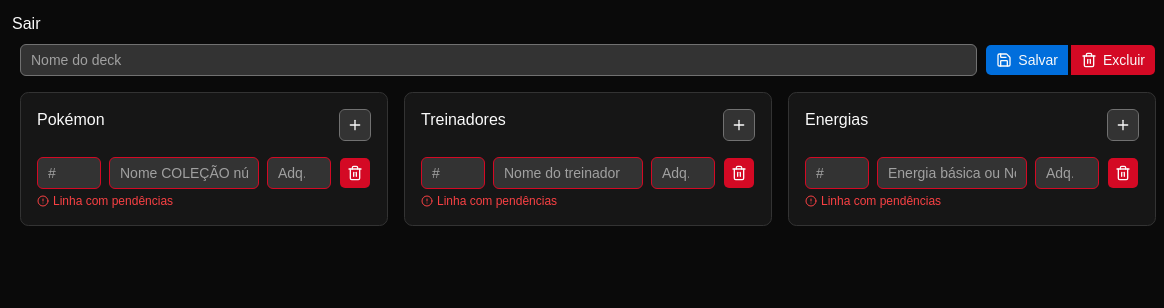
Test case: DeckEditor › pre-fills owned when the typed text resolves to a known key
Click the button named "Adicionar carta" at (355, 125), box [339,109,371,141]
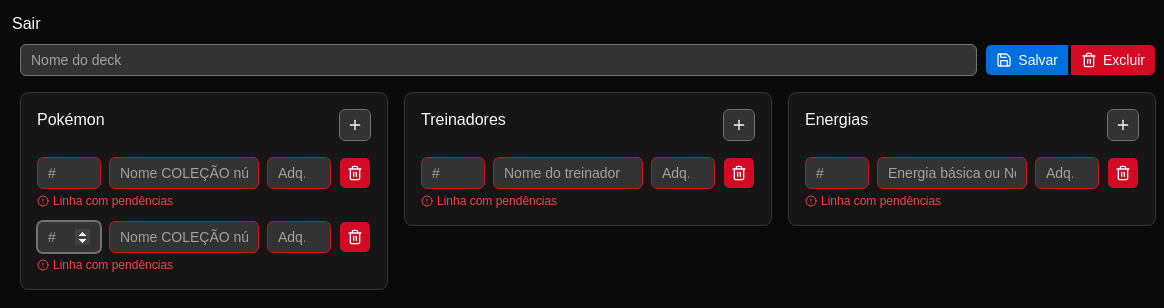
Type "1" into the number field named "Quantidade" at (69, 237), box [37,221,101,253]
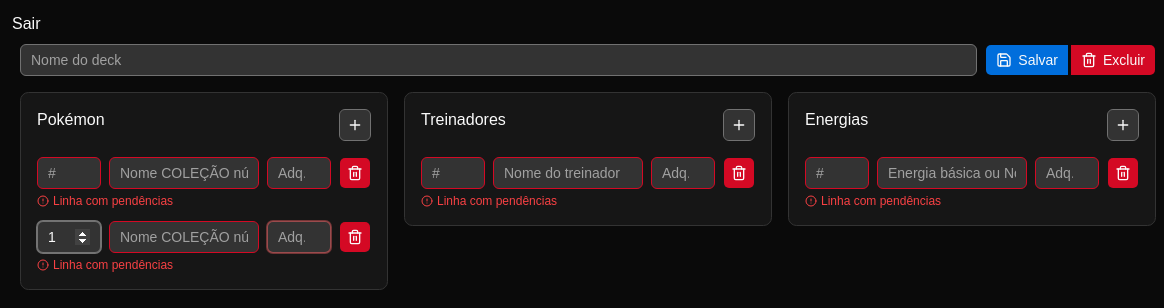
Type "Abra MEG 54" into the dropdown named "Carta" at (184, 237), box [109,221,259,253]
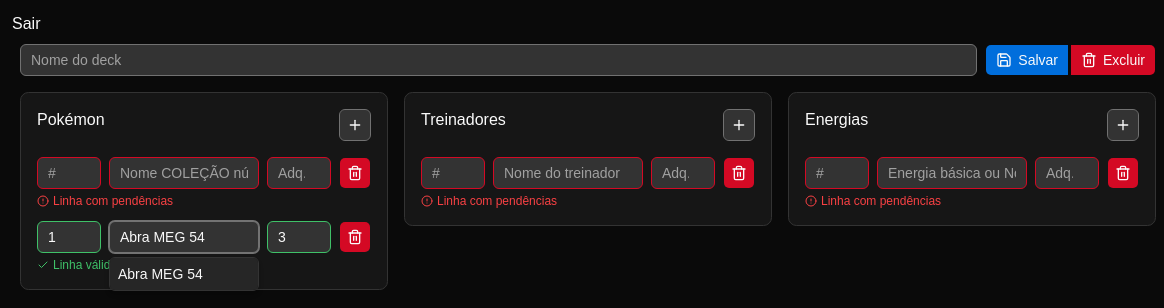
Result: the number field named "Adquirido" holds "3" at [267,221,331,253]
